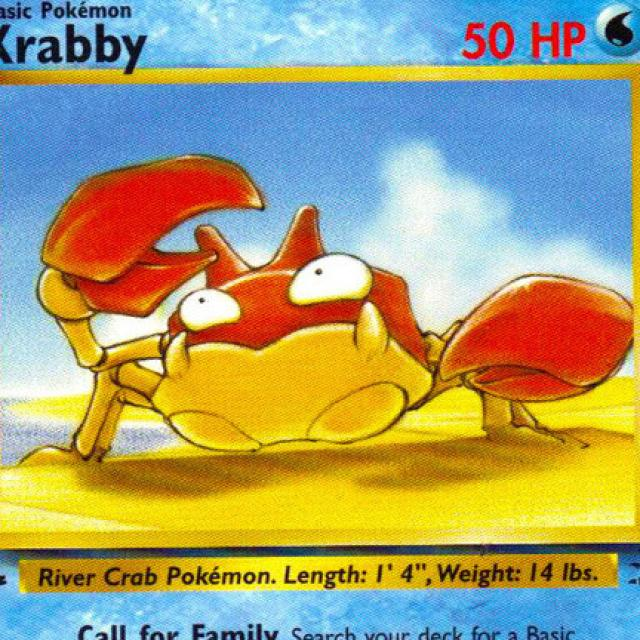Krabby: (43, 156, 637, 448)
